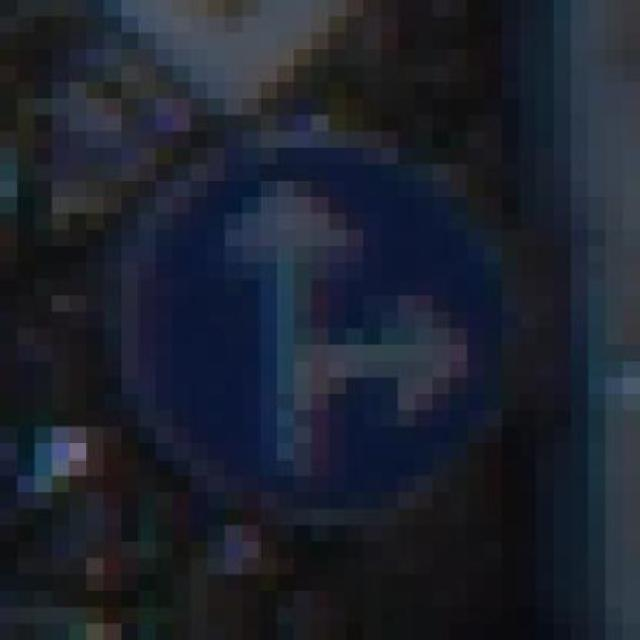Go Straight or Turn Right: (86, 98, 537, 525)
